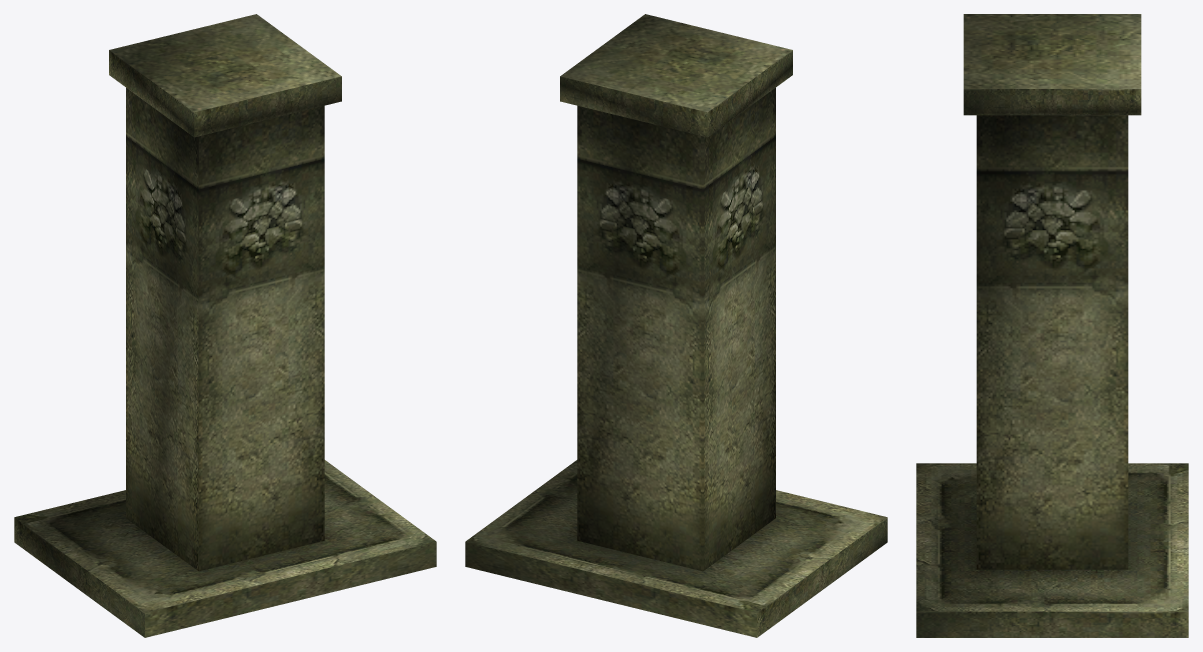
File: stto1.dae
3 renders of one model, left to right at view 1: azimuth 30°, elevation 25°; view 2: azimuth 150°, elevation 25°; view 3: azimuth 270°, elevation 25°, orthographic. The views are drawn at different scales.
Parts seen in each view (by area): view 1: torch1; view 2: torch1; view 3: torch1.
Boxes of the visible parts, x1,y1,x2,y2 form: torch1: [14, 14, 436, 637]; torch1: [465, 14, 887, 637]; torch1: [916, 14, 1188, 637].
Bounding box in the file's own units: 1.9 × 1.48 × 3.06.
1 material, 1 textured.
